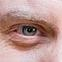eye: (22, 26, 36, 36)
